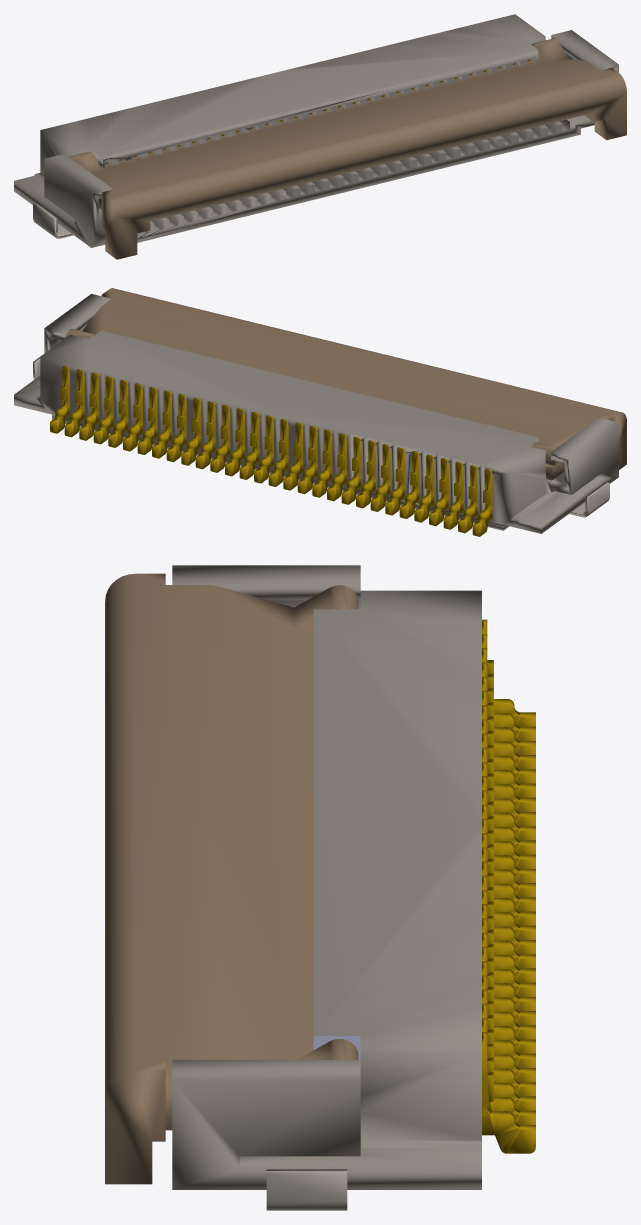
The picture shows the model from 3 angles, top to bottom: view 1: azimuth 30°, elevation 25°; view 2: azimuth 150°, elevation 25°; view 3: azimuth 270°, elevation 25°; orthographic projection. The views are drawn at different scales.
Visible parts, largest first — view 1: =>[0:1:1:3]; view 2: =>[0:1:1:3]; view 3: =>[0:1:1:3].
Boxes of the visible parts, <box> form: =>[0:1:1:3]: <box>14,14,626,259</box>; =>[0:1:1:3]: <box>14,288,626,536</box>; =>[0:1:1:3]: <box>105,565,535,1210</box>.
Bounding box in the file's own units: 0.0191 × 0.002 × 0.0064.
